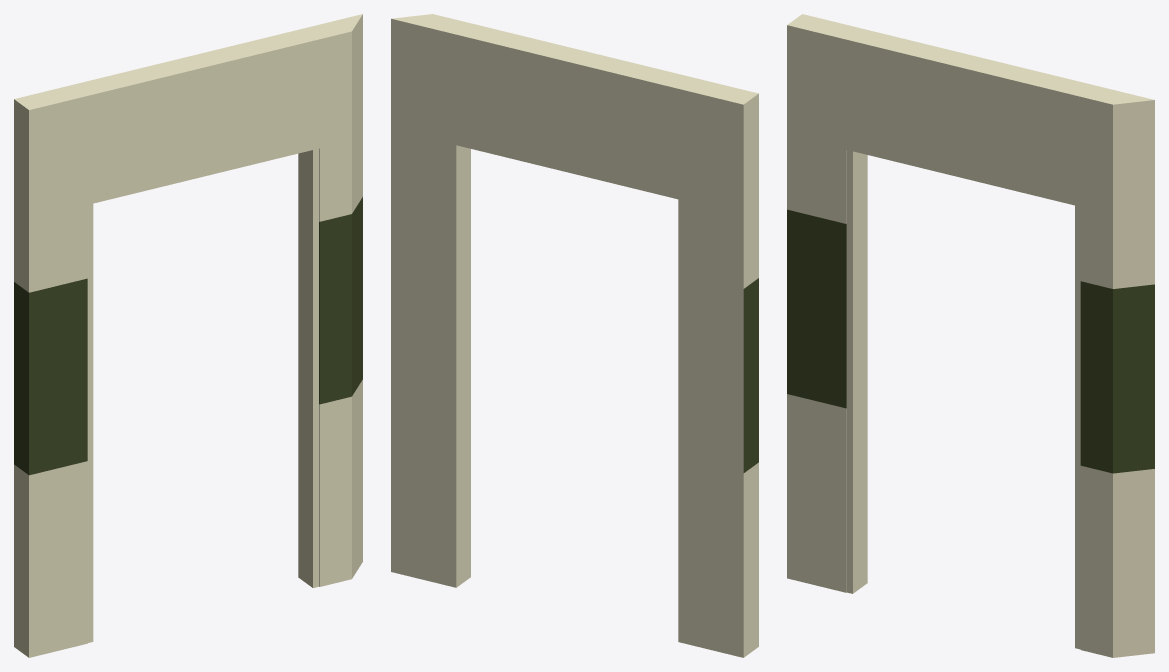
Rendered from InteriorWall_Door_R45_ExportPrep.gltf.
The picture shows the model from 3 angles, left to right: view 1: azimuth 30°, elevation 25°; view 2: azimuth 150°, elevation 25°; view 3: azimuth 330°, elevation 25°; orthographic projection.
Visible parts, largest first — view 1: InteriorWall_Door_R45; view 2: InteriorWall_Door_R45; view 3: InteriorWall_Door_R45.
Part boxes in pixels (x1,y1,x2,y2): InteriorWall_Door_R45: (14,14,362,657); InteriorWall_Door_R45: (391,14,758,657); InteriorWall_Door_R45: (787,14,1154,657).
Bounding box in the file's own units: 2 × 3 × 0.15.
